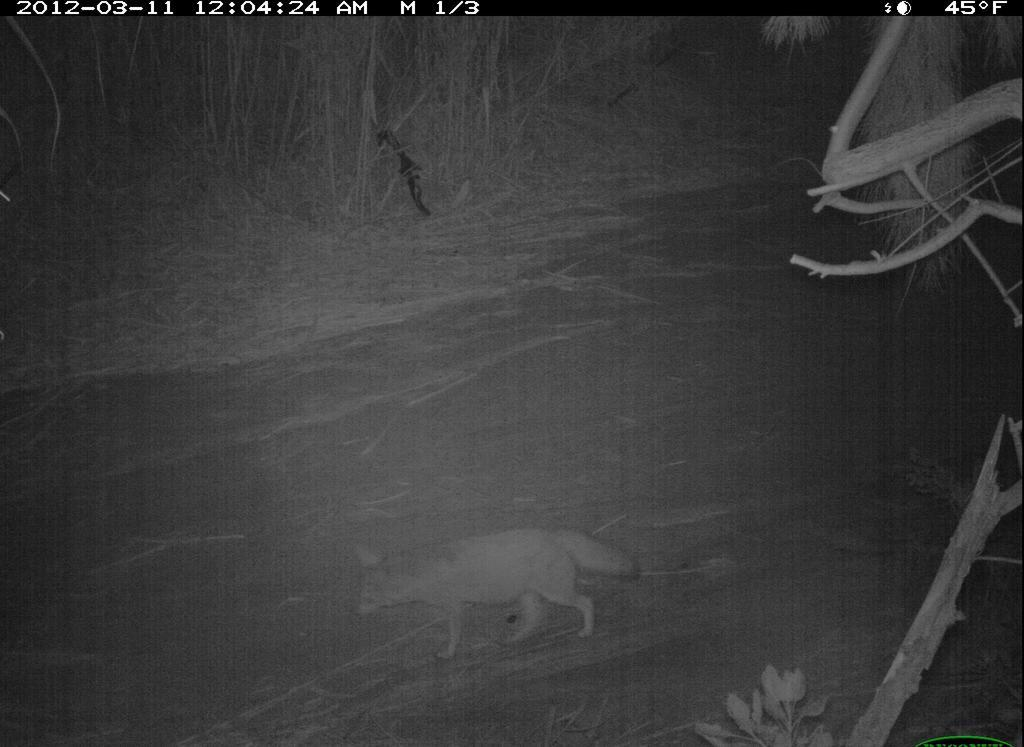coyote: (347, 519, 646, 666)
